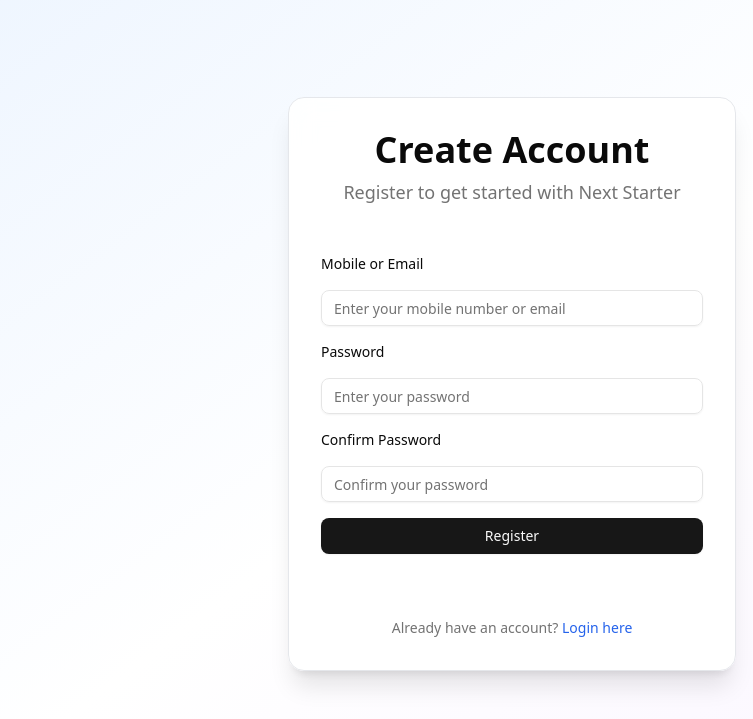
Test: RegisterPage › shows error if passwords do not match
In the field with placeholder "Enter your mobile number or email": (512, 308) [321,290,703,326], type "test@example.com"
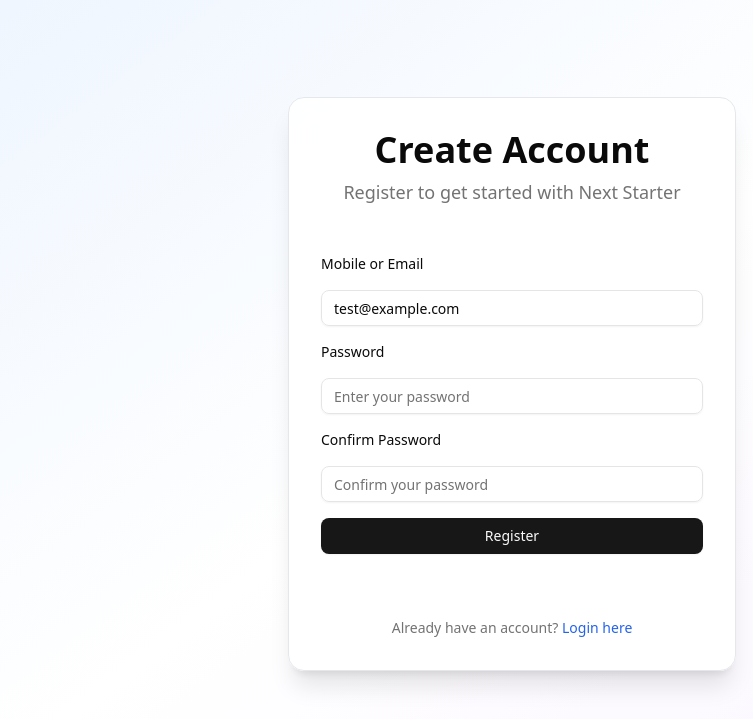
In the password field with placeholder "Enter your password": (512, 396) [321,378,703,414], type "Password1!"
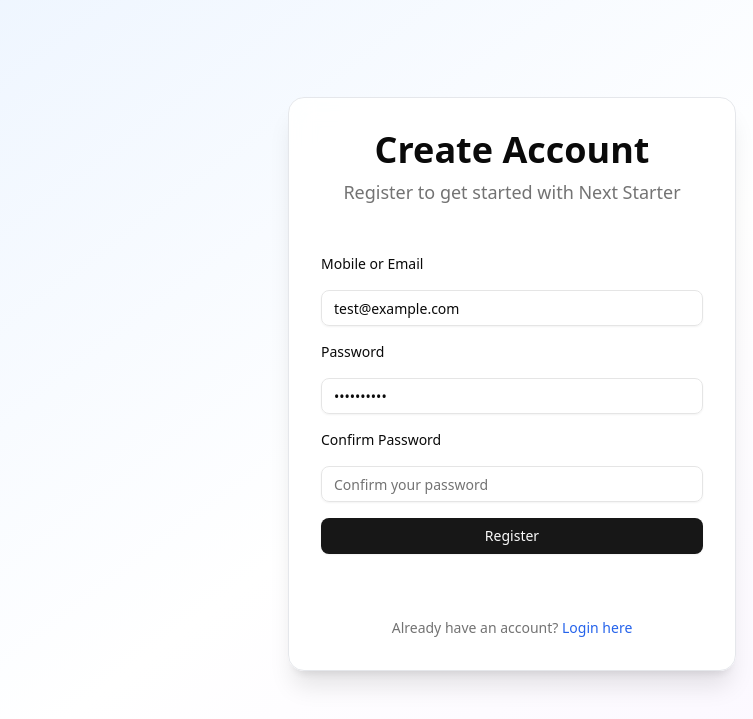
In the password field with placeholder "Confirm your password": (512, 484) [321,466,703,502], type "Password2!"
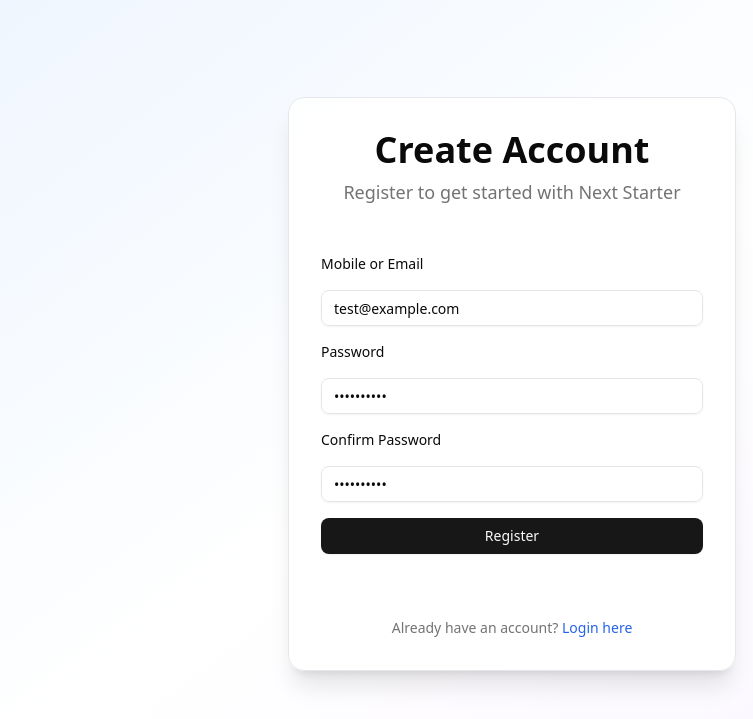
Click the button "Register": (512, 536) [321,518,703,554]
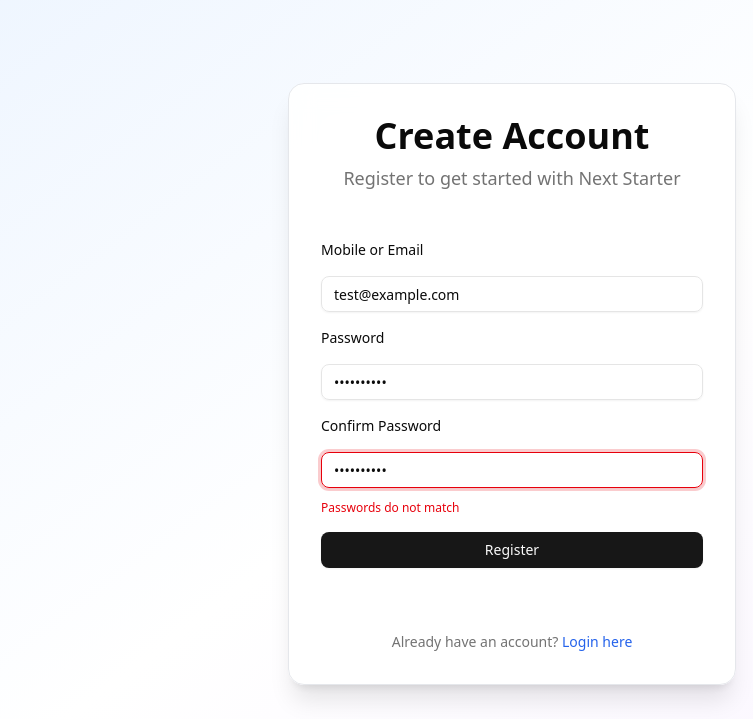
Check: the text "Passwords do not match" is shown, box [321,499,460,516]
